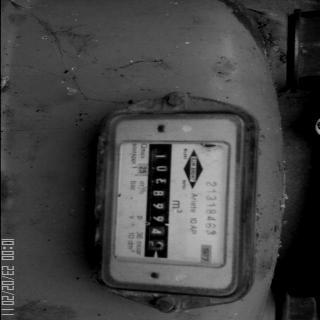1: (156, 165, 169, 172)
2: (154, 153, 166, 159)
4: (154, 177, 167, 186)
5: (150, 227, 163, 235)
9: (151, 190, 165, 199)
object: (152, 202, 165, 210), (152, 215, 165, 223)
